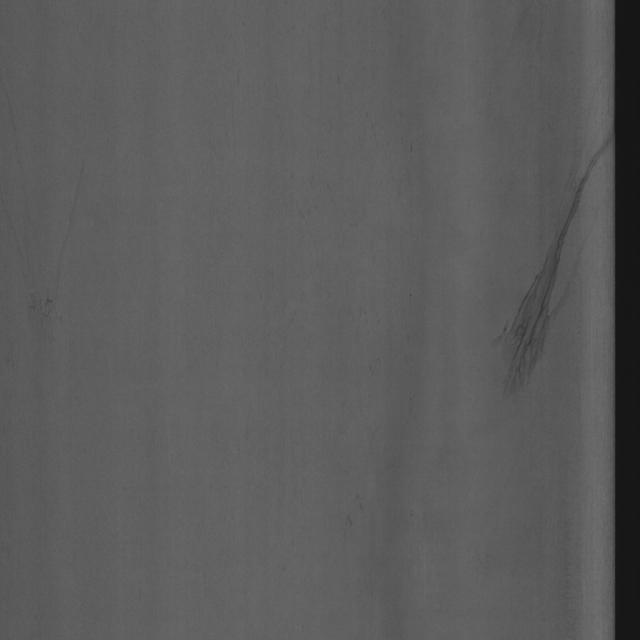water_spot: (484, 100, 615, 443)
